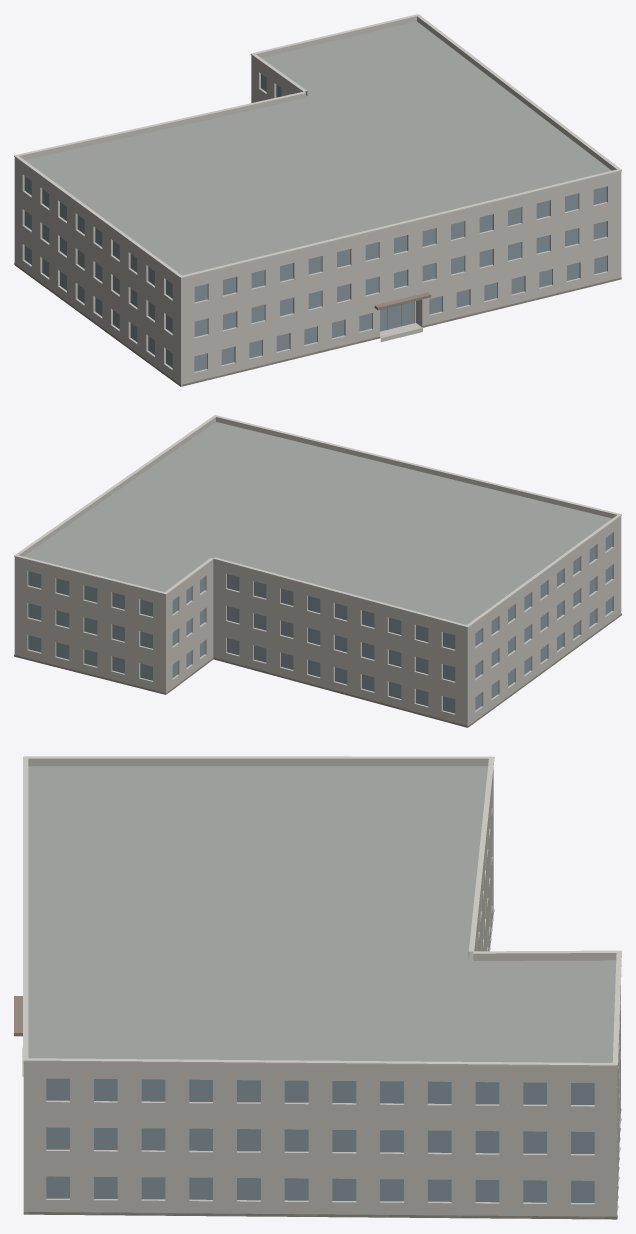
3 renders of one model, top to bottom at view 1: azimuth 30°, elevation 25°; view 2: azimuth 150°, elevation 25°; view 3: azimuth 270°, elevation 25°, orthographic. The views are drawn at different scales.
Visible parts, largest first — view 1: osm137109125__roof, osm137109125__wall, osm137109125__glass, osm137109125__parapet, osm137109125__trim, osm137109125__base; view 2: osm137109125__roof, osm137109125__wall, osm137109125__glass, osm137109125__parapet, osm137109125__trim, osm137109125__base; view 3: osm137109125__roof, osm137109125__wall, osm137109125__glass, osm137109125__parapet, osm137109125__trim, osm137109125__base.
Part boxes in pixels (x1,y1,x2,y2): osm137109125__roof: (25,21,611,275); osm137109125__wall: (14,59,621,386); osm137109125__glass: (24,74,606,371); osm137109125__parapet: (14,16,621,282); osm137109125__trim: (14,14,621,278); osm137109125__base: (14,263,621,386); osm137109125__roof: (24,422,611,624); osm137109125__wall: (14,520,621,727); osm137109125__glass: (28,533,611,713); osm137109125__parapet: (14,417,621,631); osm137109125__trim: (14,415,621,627); osm137109125__base: (14,613,621,727); osm137109125__roof: (28,766,616,1219); osm137109125__wall: (23,768,620,1216); osm137109125__glass: (46,1078,594,1202); osm137109125__parapet: (23,758,617,1072); osm137109125__trim: (23,756,621,1066); osm137109125__base: (23,909,621,1219).
Bounding box in the file's own units: 48.74 × 11.75 × 40.54.
Materials: 10 (1 with a texture image).
